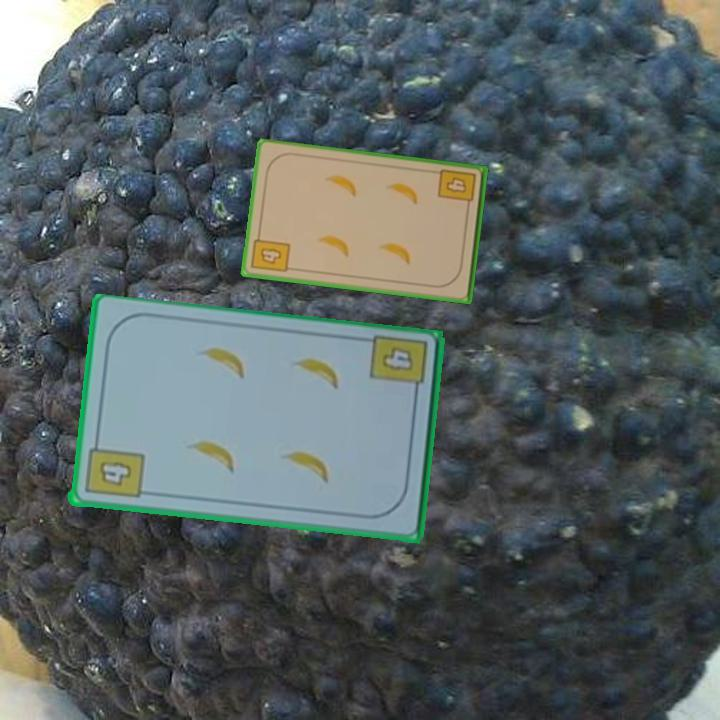4b: (366, 332, 430, 402), (80, 435, 146, 502), (435, 165, 479, 213), (248, 229, 293, 275)
